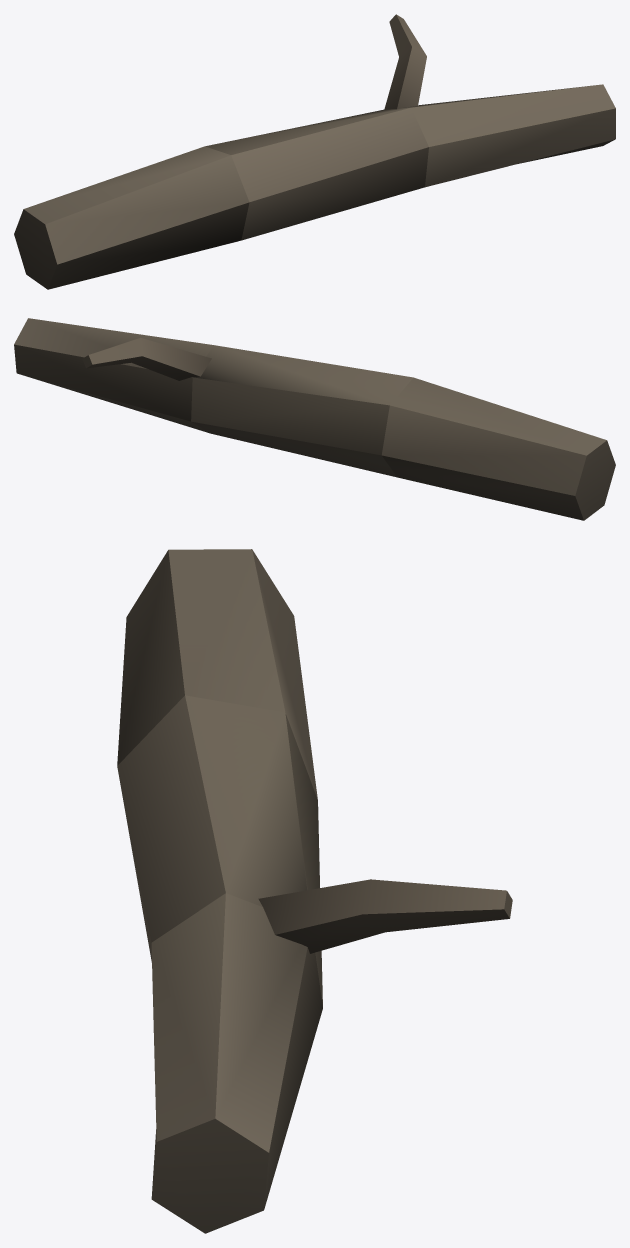
The model's file is CO_Driftwood.glb.
3 views of the same model, one above another, from view 1: azimuth 30°, elevation 25°; view 2: azimuth 150°, elevation 25°; view 3: azimuth 270°, elevation 25° (orthographic). The views are drawn at different scales.
Parts seen in each view (by area): view 1: CO_Driftwood_1_Wood; view 2: CO_Driftwood_1_Wood; view 3: CO_Driftwood_1_Wood.
Part boxes in pixels (x1,y1,x2,y2): CO_Driftwood_1_Wood: [14, 14, 615, 289]; CO_Driftwood_1_Wood: [14, 318, 615, 520]; CO_Driftwood_1_Wood: [117, 549, 512, 1233].
Bounding box in the file's own units: 7.05 × 1.32 × 2.12.
